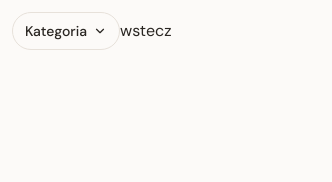
Test: MultiFilterDropdown — wybór optymistyczny przy zapisie przejściem (AF-5-065) › opcja i etykieta zmieniają się od razu, a po commicie zgadzają się z adresem
What coordinates should you click on to do the following:
click the button "Kategoria"
I would click on:
 (66, 31)
Its box is [12,12,120,50].
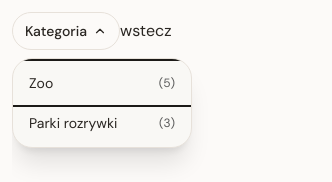
What coordinates should you click on to do the following:
click the option "Zoo (5)"
I would click on:
 (102, 83)
Its box is [13,63,191,103].
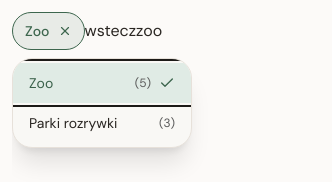
Result: the button "Zoo" is shown at [12,12,84,50]
Result: the text with test id "adres" reads "zoo" at [136,20,162,41]
